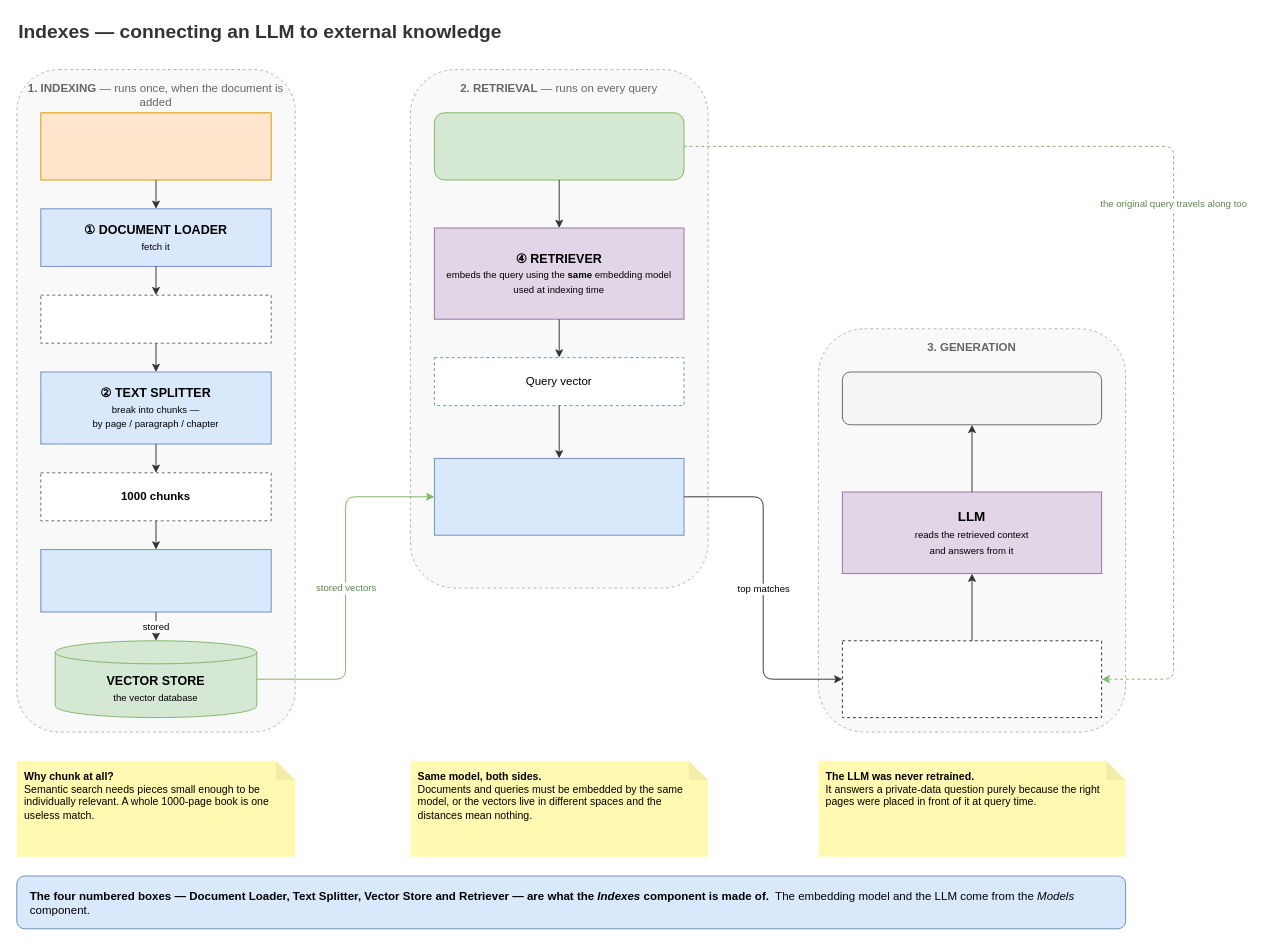
The diagram is 1263 pixels wide and 946 high, and some of its shapes have lost their labels. Here are the shapes that lost their labels. From the top down, the centre of each, then its label:
point 155,146: Rule book PDF 1000 pages, sitting on Google Drive
point 558,146: User query "What is the leave policy?"
point 155,318: Document in memory
point 971,398: Answer
point 558,496: SEMANTIC SEARCH compare the query vector against the stored vectors
point 155,580: ③ EMBEDDING MODEL → 1000 embedding vectors
point 971,679: Relevant chunks + original query
